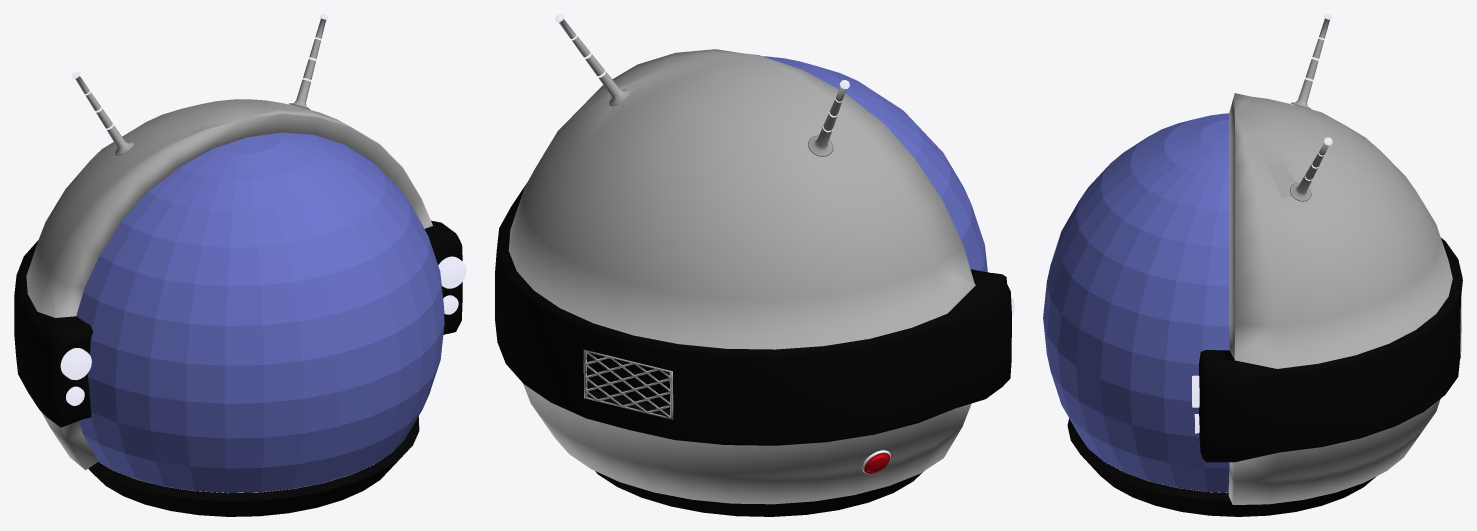
File: AstronautHelmet_v5.glb
3 renders of one model, left to right at view 1: azimuth 30°, elevation 25°; view 2: azimuth 150°, elevation 25°; view 3: azimuth 270°, elevation 25°, orthographic. The views are drawn at different scales.
Parts seen in each view (by area): view 1: Def; view 2: Def; view 3: Def.
Boxes of the visible parts, box(x1,y1,x2,y2) form: Def: box(14, 14, 466, 516); Def: box(495, 14, 1014, 516); Def: box(1043, 14, 1462, 516).
Size of the model in its own units: 0.804 by 0.7074 by 0.7135.
